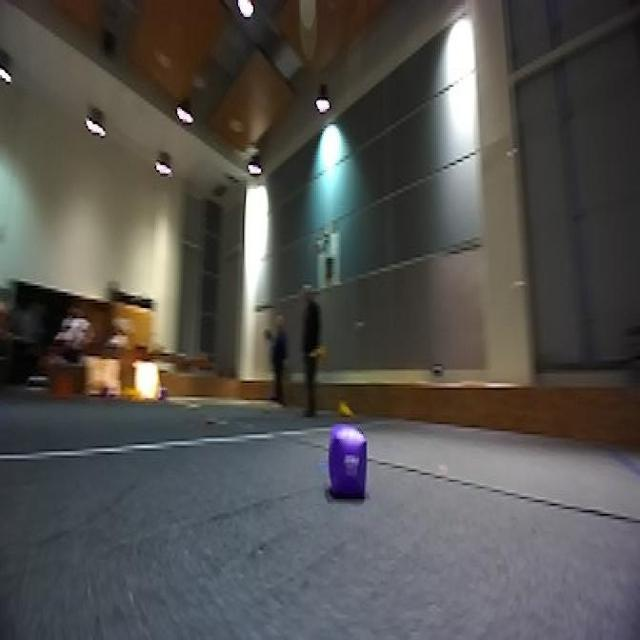frc_cone: (118, 384, 141, 402), (308, 342, 326, 363), (337, 395, 352, 417)
frc_cube: (326, 426, 370, 500), (96, 382, 111, 398), (159, 386, 171, 404)
